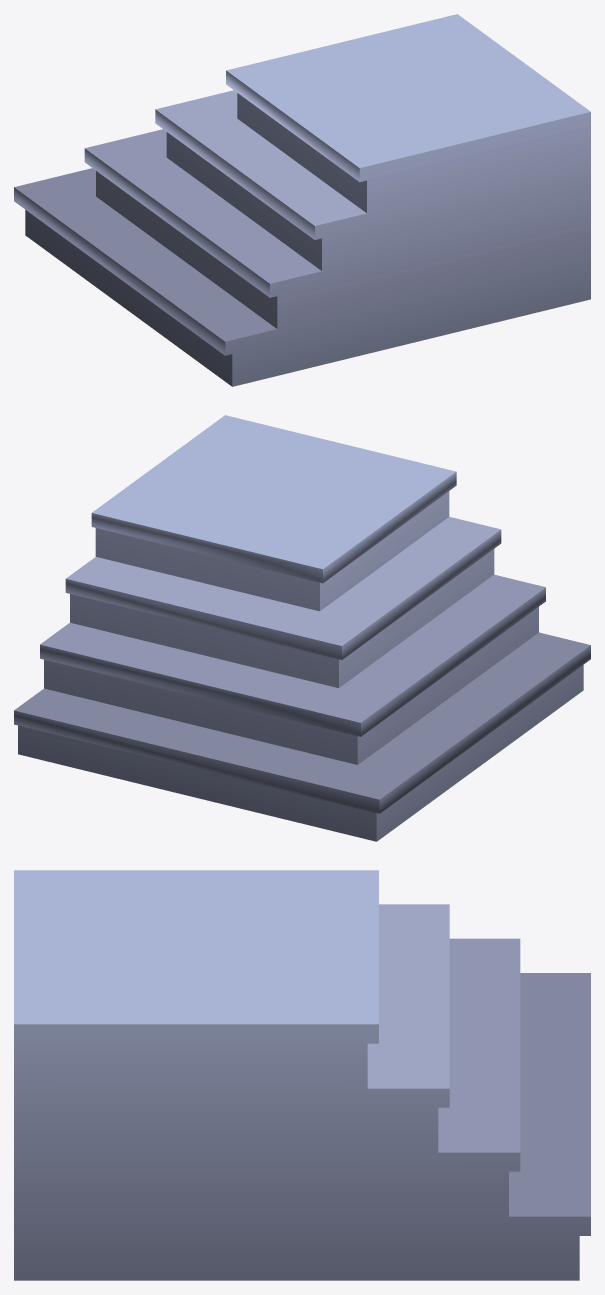
Rendered from stairs-full-corner-outer.glb.
The picture shows the model from 3 angles, top to bottom: view 1: azimuth 30°, elevation 25°; view 2: azimuth 150°, elevation 25°; view 3: azimuth 270°, elevation 25°; orthographic projection. The views are drawn at different scales.
Parts seen in each view (by area): view 1: stairs-full-corner-outer; view 2: stairs-full-corner-outer; view 3: stairs-full-corner-outer.
Part boxes in pixels (box(x1,y1,x2,y2)): stairs-full-corner-outer: box(14, 14, 590, 386); stairs-full-corner-outer: box(14, 415, 590, 841); stairs-full-corner-outer: box(14, 870, 590, 1280).
Bounding box in the file's own units: 1.02 × 0.5 × 1.02.
1 material, 1 textured.
